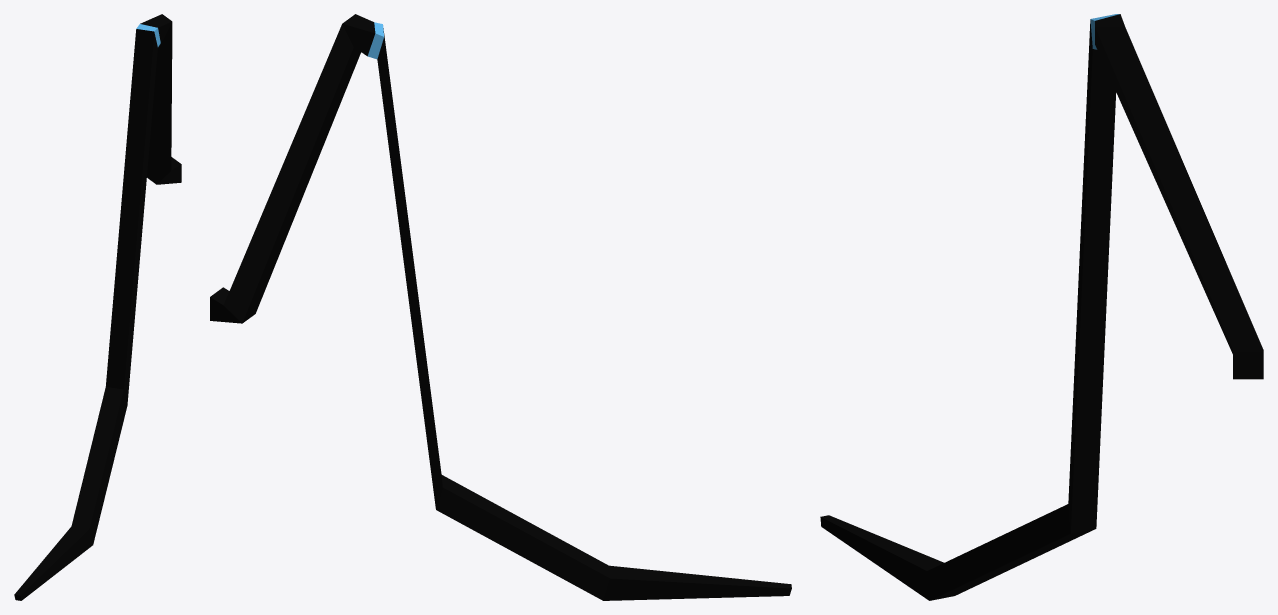
File: FLegL.fbx
3 views of the same model, side by side, from view 1: azimuth 30°, elevation 25°; view 2: azimuth 150°, elevation 25°; view 3: azimuth 270°, elevation 25° (orthographic). The views are drawn at different scales.
Parts seen in each view (by area): view 1: FLegL; view 2: FLegL; view 3: FLegL.
Part boxes in pixels (<box>): FLegL: <box>14,14,181,600</box>; FLegL: <box>210,14,791,600</box>; FLegL: <box>820,14,1263,600</box>.
Bounding box in the file's own units: 38.95 × 55.75 × 33.08.
